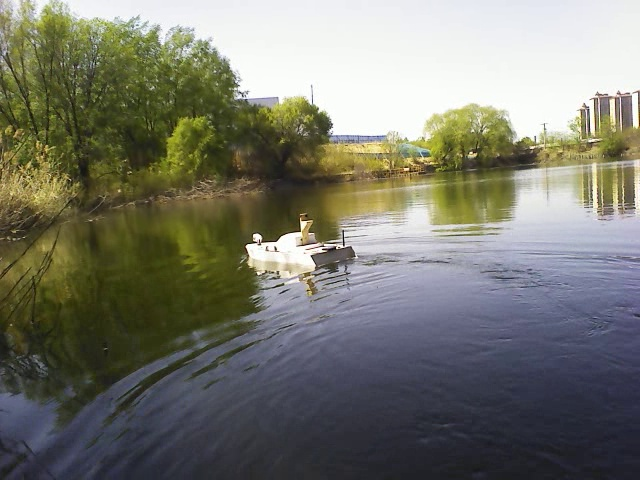boat: (244, 225, 361, 271)
